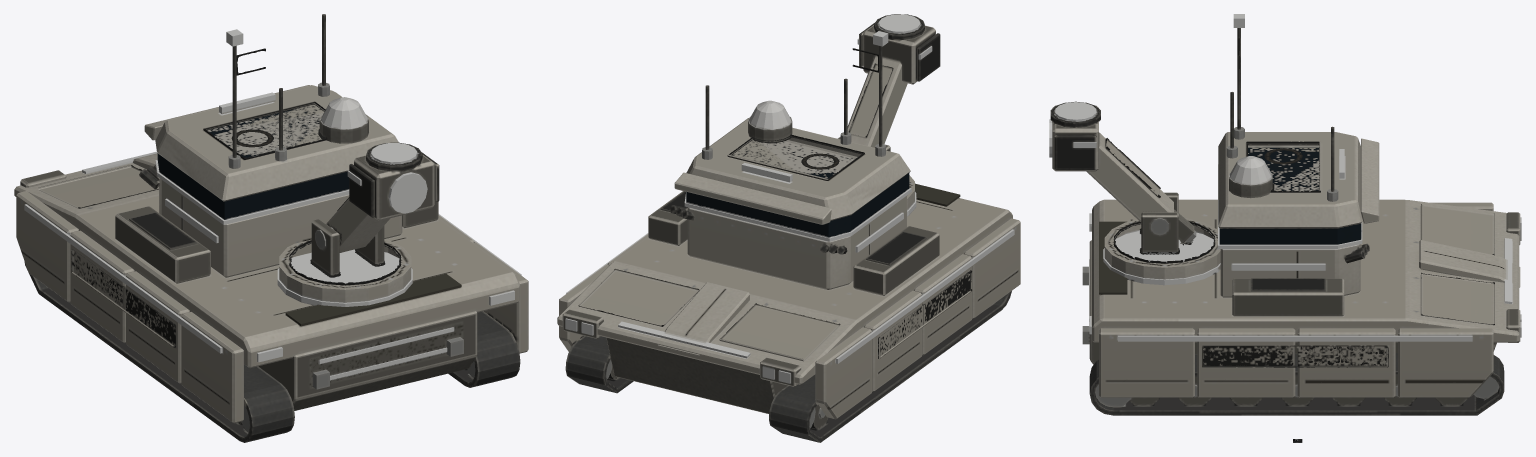
The model's file is ord_sovereign.fbx.
3 views of the same model, side by side, from view 1: azimuth 30°, elevation 25°; view 2: azimuth 150°, elevation 25°; view 3: azimuth 270°, elevation 25° (orthographic). The views are drawn at different scales.
Parts seen in each view (by area): view 1: base_bar, nano_bar, trackL_bar, base_glow_running_bar, nano_glow_power_bar, trackR_bar, base_glow_head_bar; view 2: base_bar, nano_bar, trackL_bar, base_glow_running_bar, trackR_bar, base_glow_head_bar, nano_glow_power_bar; view 3: base_bar, nano_bar, trackR_bar, base_glow_running_bar, nano_glow_power_bar.
Part boxes in pixels (x1=…): base_bar: x1=14, y1=14, x2=528, y2=423; nano_bar: x1=279, y1=142, x2=439, y2=302; trackL_bar: x1=24, y1=262, x2=294, y2=442; base_glow_running_bar: x1=24, y1=29, x2=521, y2=380; nano_glow_power_bar: x1=277, y1=143, x2=427, y2=306; trackR_bar: x1=448, y1=311, x2=520, y2=387; base_glow_head_bar: x1=219, y1=92, x2=275, y2=114; base_bar: x1=557, y1=46, x2=1020, y2=419; nano_bar: x1=838, y1=14, x2=940, y2=210; trackL_bar: x1=769, y1=291, x2=1011, y2=442; base_glow_running_bar: x1=566, y1=31, x2=1014, y2=363; trackR_bar: x1=565, y1=336, x2=633, y2=393; base_glow_head_bar: x1=565, y1=162, x2=792, y2=383; nano_glow_power_bar: x1=878, y1=14, x2=920, y2=216; base_bar: x1=1082, y1=28, x2=1520, y2=397; nano_bar: x1=1050, y1=101, x2=1220, y2=279; trackR_bar: x1=1089, y1=353, x2=1504, y2=415; base_glow_running_bar: x1=1089, y1=14, x2=1512, y2=341; nano_glow_power_bar: x1=1049, y1=102, x2=1220, y2=285.
Size of the model in its own units: 675 by 931 by 1012.
Materials: 2 (2 with a texture image).
